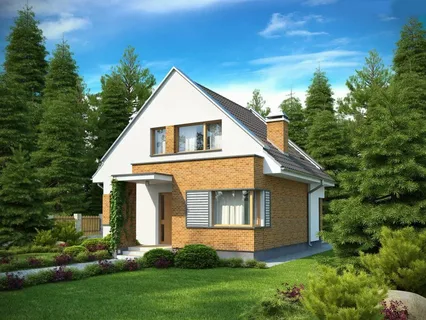private_hause: (95, 64, 325, 249)
